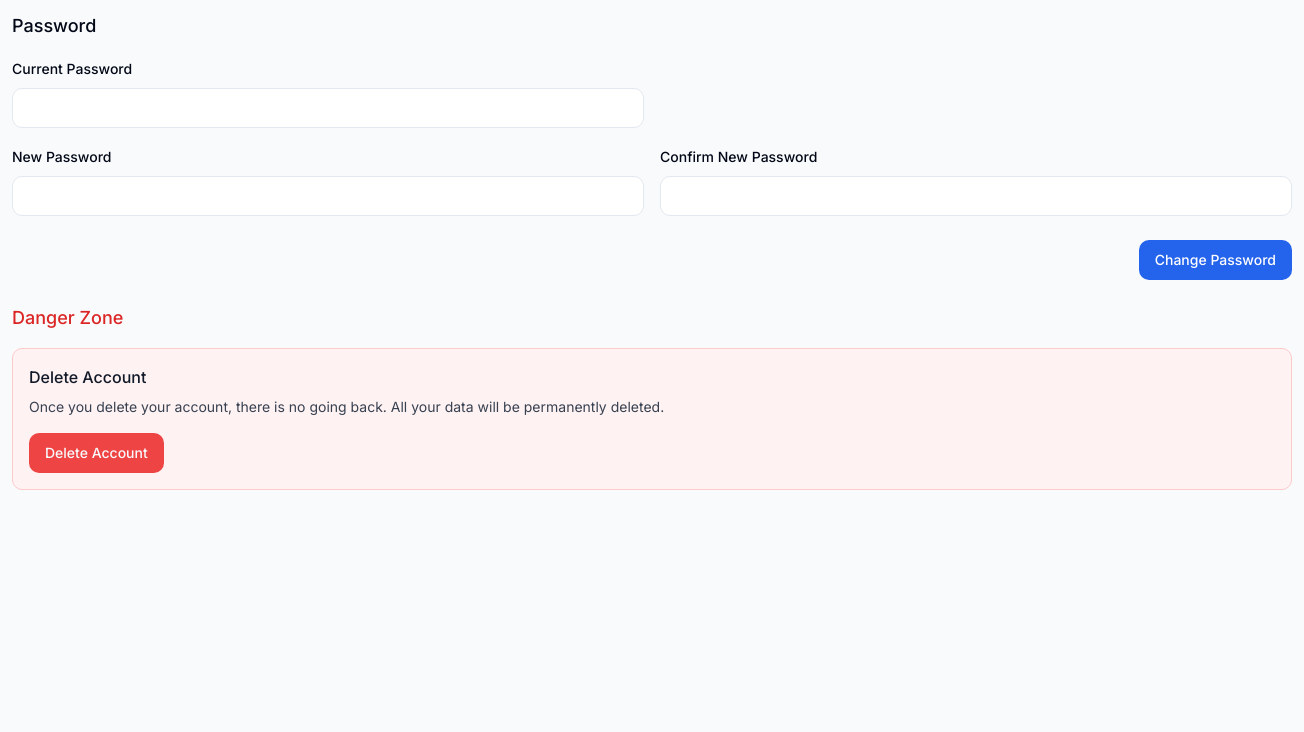
Test: AccountSection — password match indicator › links the confirm input to the status via aria-describedby when both fields have content
In the password field with id "newPassword": (328,196) [12,176,644,216], type "abc123"
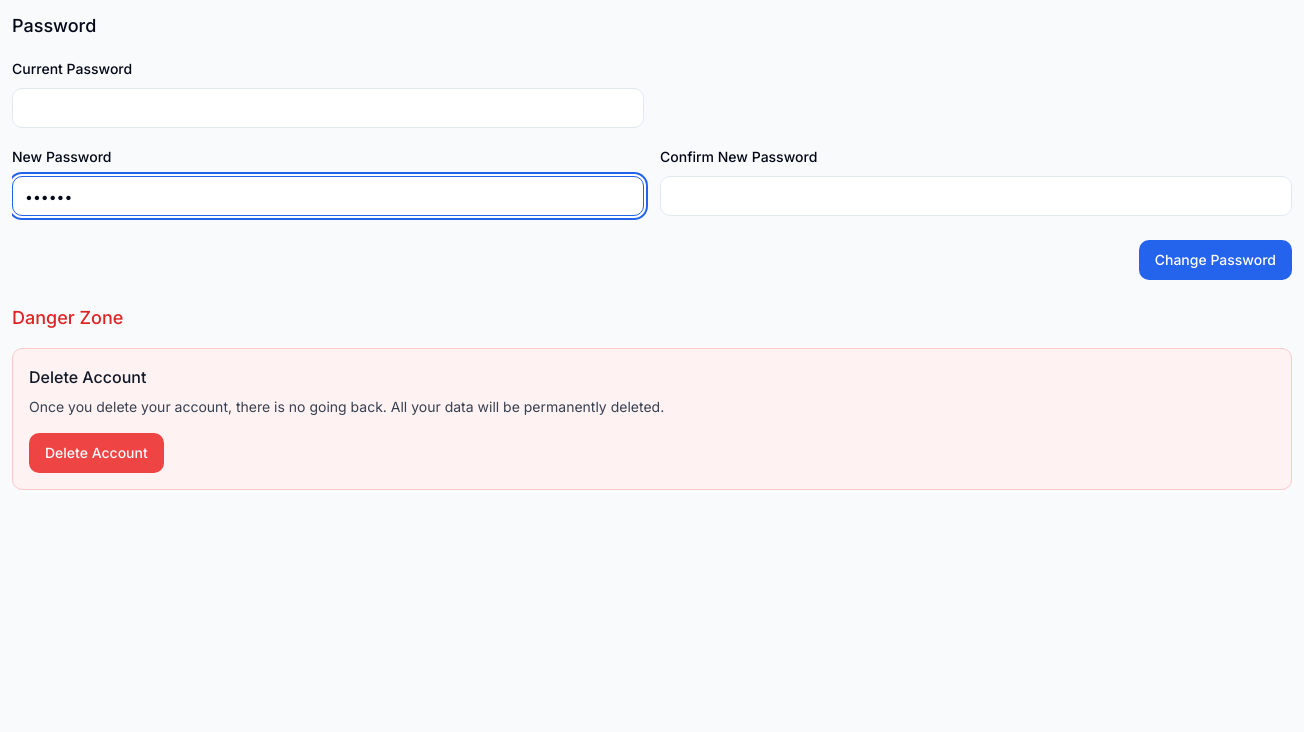
In the password field labelled "Confirm New Password": (976,196) [660,176,1292,216], type "abc123"
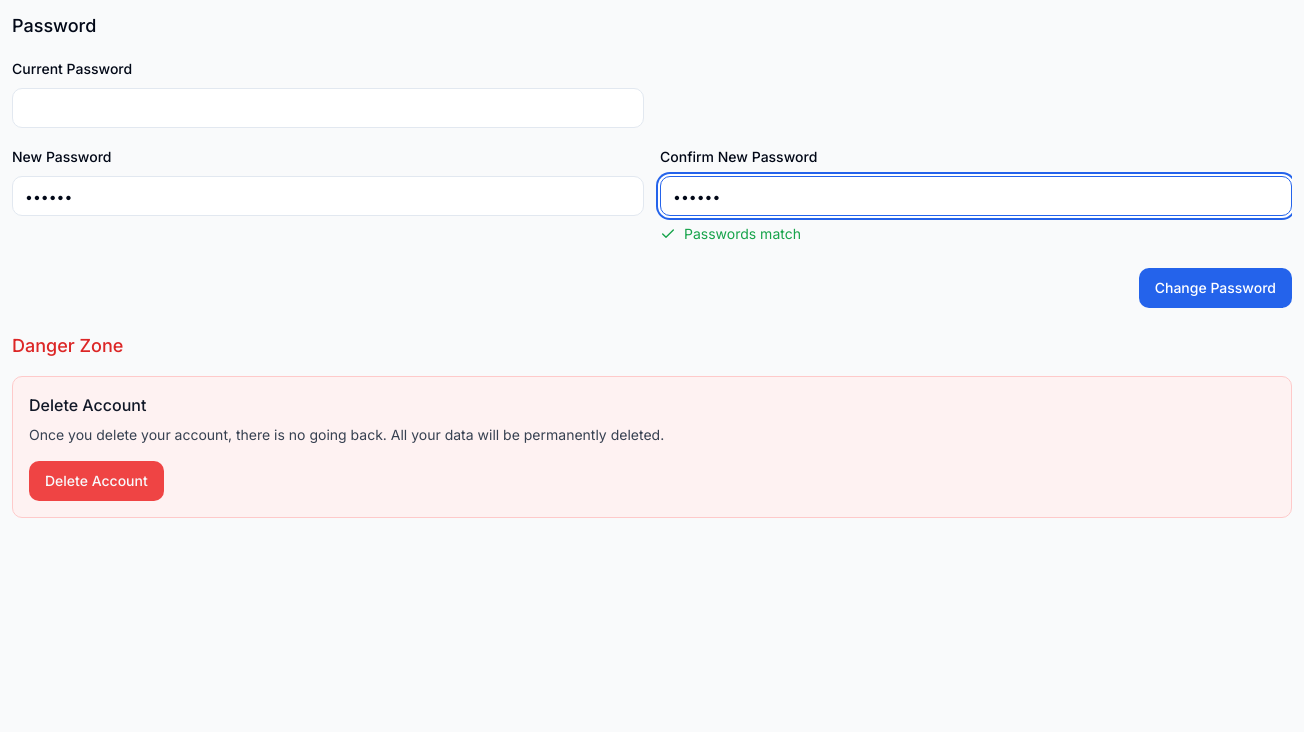
Expected: the password field labelled "Confirm New Password" has attribute aria-describedby="password-match-status", [660,176,1292,216]
